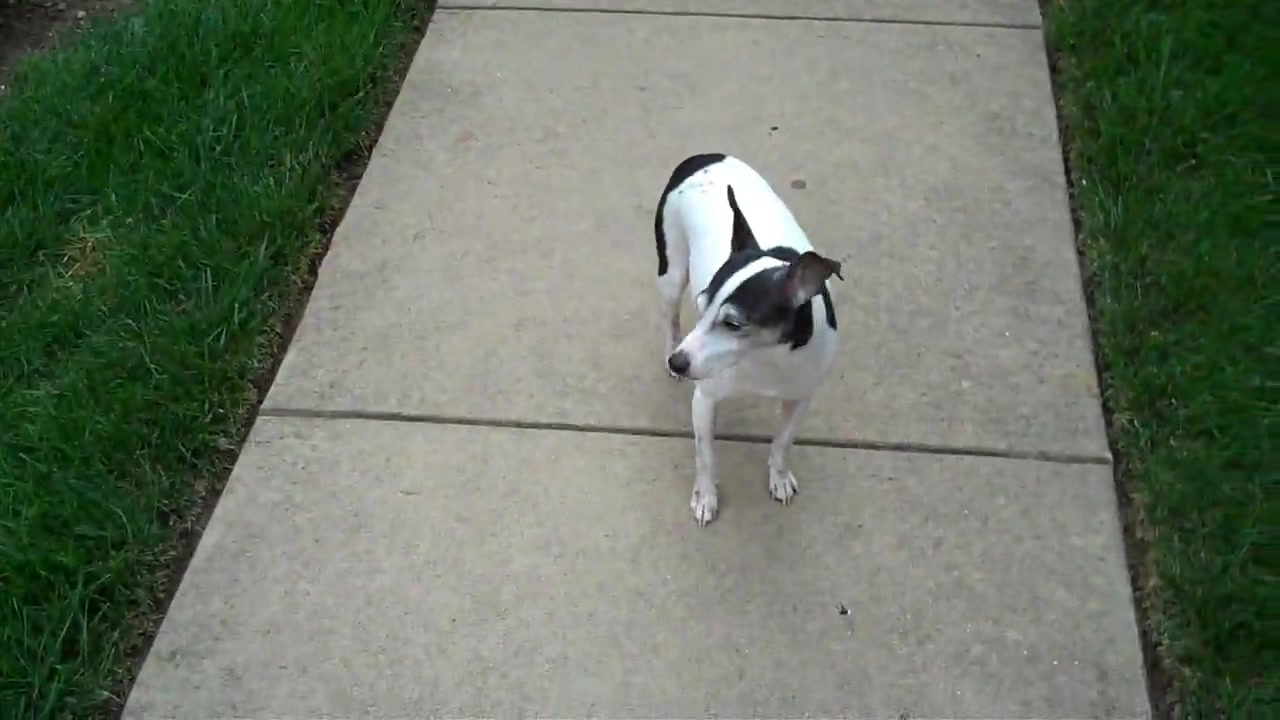dog: (656, 149, 849, 528)
